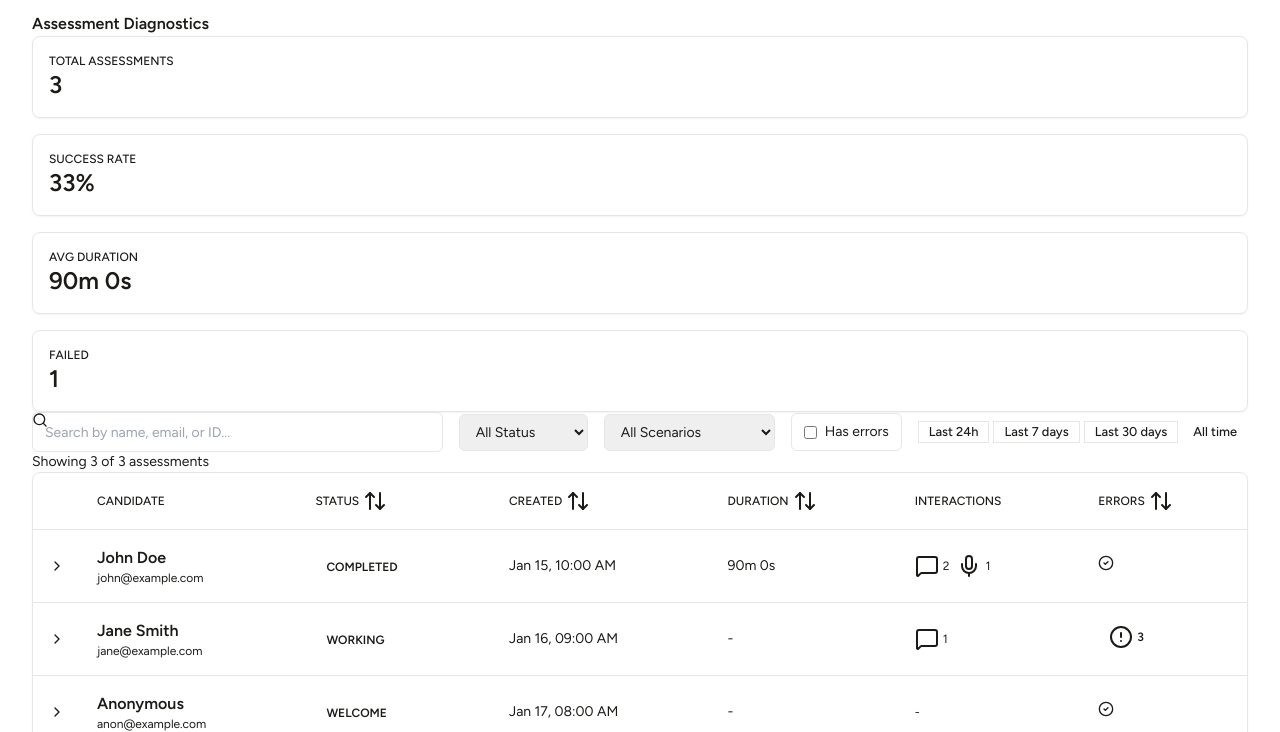
it: AssessmentsClient › Search functionality › filters by candidate name
Type "John" into the field with test id "search-input" at [237, 432], box [32,412,443,452]
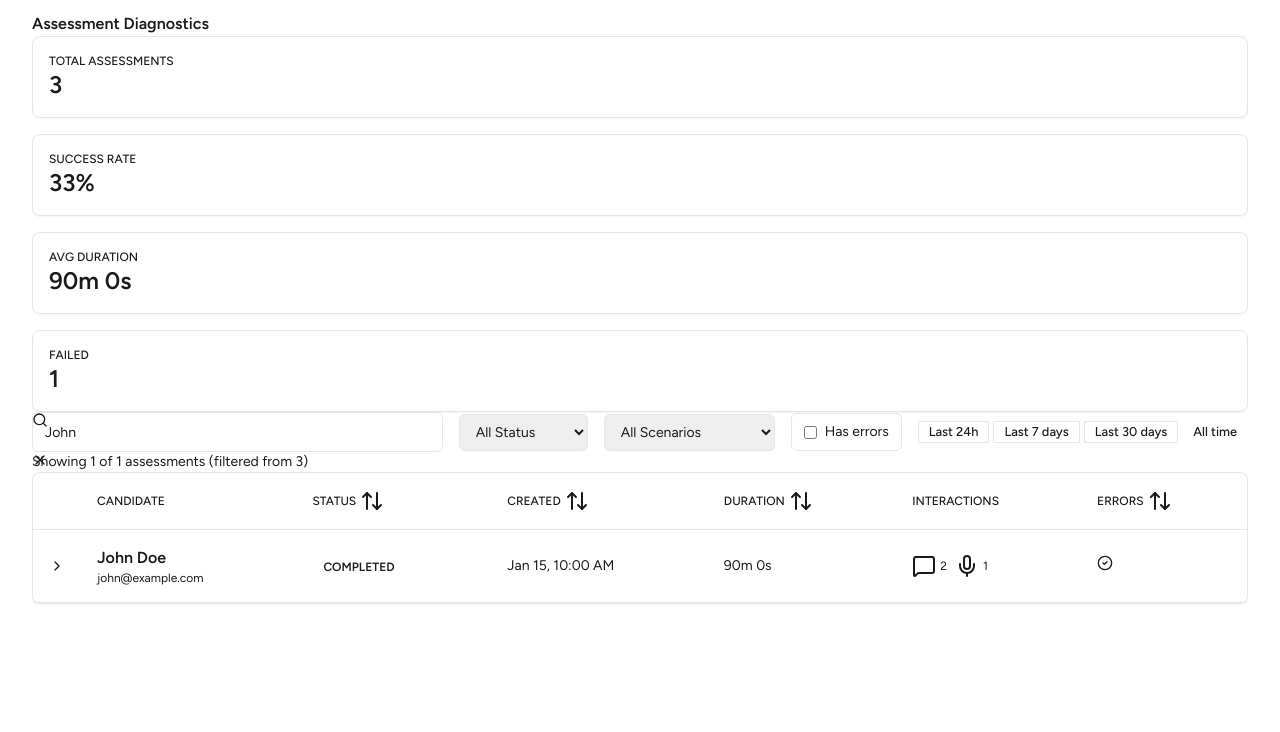
Expected: the text "John Doe" is shown, [97,548,166,567]
Now the text "Jane Smith" is gone
